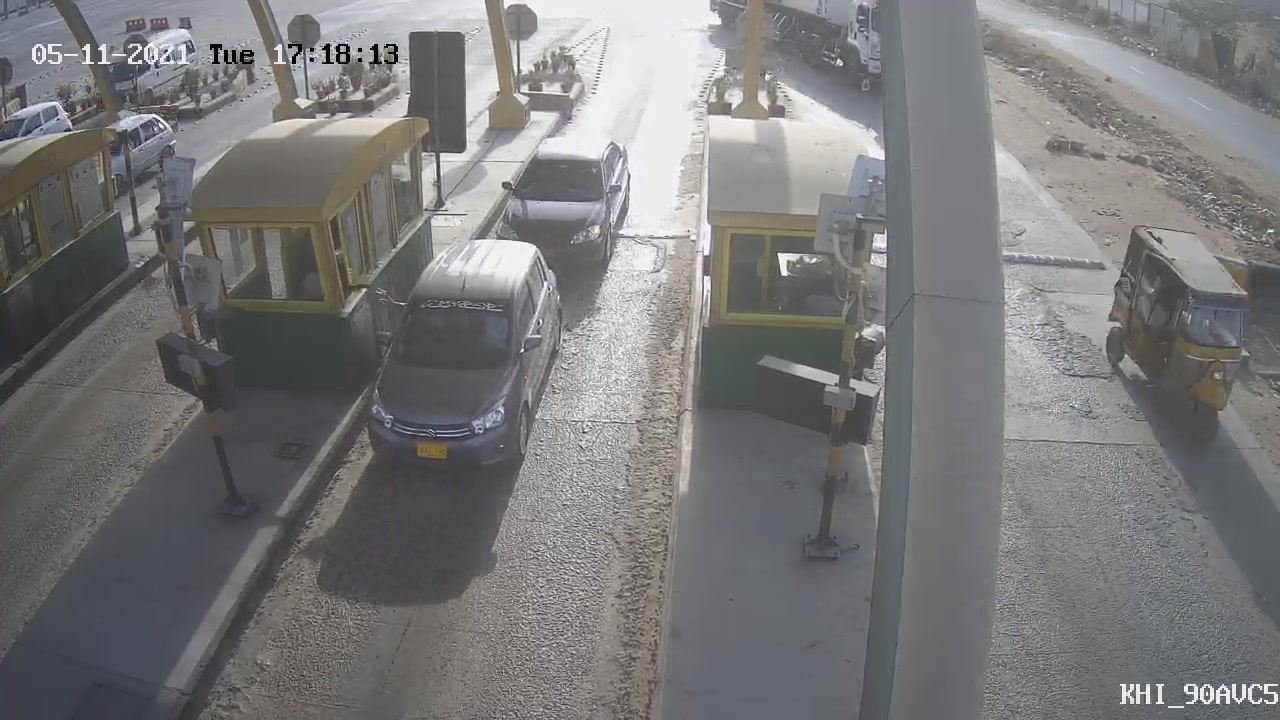F1: (342, 226, 578, 501), (476, 118, 648, 296)
